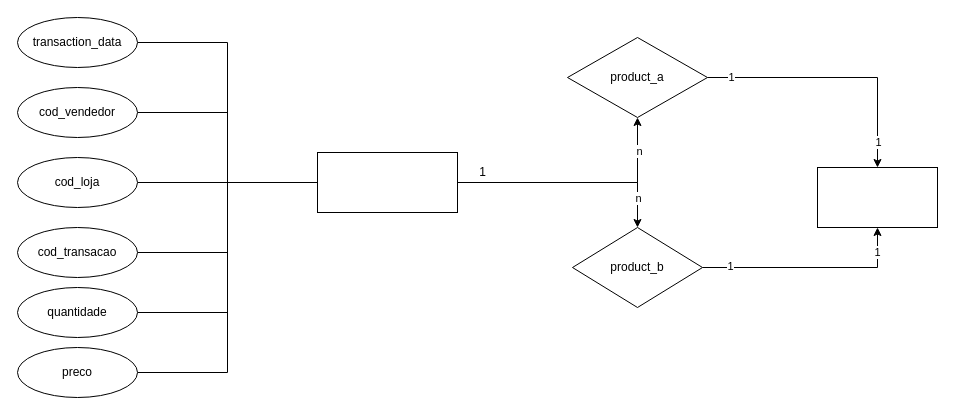
The diagram is 955 pixels wide and 415 high, and some of its shapes have lost their labels. The box of each missing label's shape, as (x1, y1, x2, y2) in pixels:
cross_sell: (816, 166, 938, 228)
transaction_fact_v6_all: (316, 152, 458, 212)
